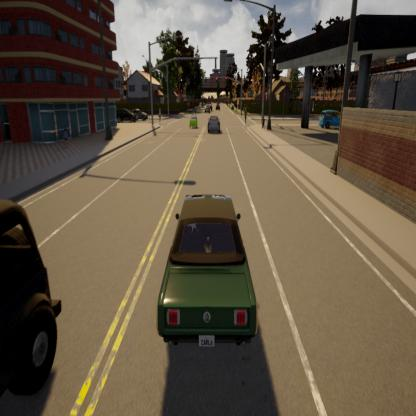Cars: (140, 166, 265, 379), (0, 170, 73, 416), (316, 100, 348, 144), (206, 113, 228, 141), (113, 105, 140, 125), (187, 110, 203, 140), (132, 103, 148, 123), (203, 98, 213, 116), (216, 102, 221, 114)
Pedestrian: (156, 105, 165, 133), (260, 112, 269, 138), (242, 106, 251, 128), (235, 100, 239, 116)
